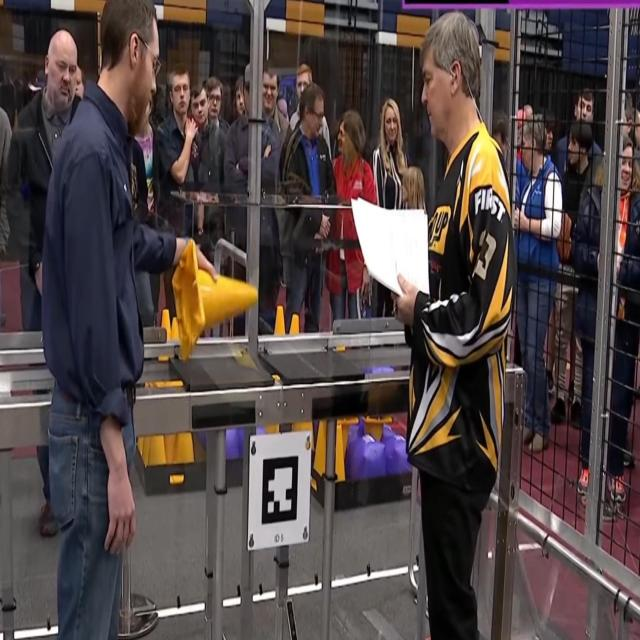frc_cone: (171, 238, 258, 360), (361, 412, 390, 444), (312, 420, 328, 477), (334, 422, 347, 482), (172, 434, 195, 467), (271, 304, 288, 336), (150, 430, 166, 464), (163, 430, 175, 464), (160, 308, 172, 340), (139, 433, 150, 461), (288, 314, 300, 336), (171, 315, 180, 341)
frc_cube: (350, 433, 385, 481), (384, 432, 413, 476), (225, 425, 242, 457)
